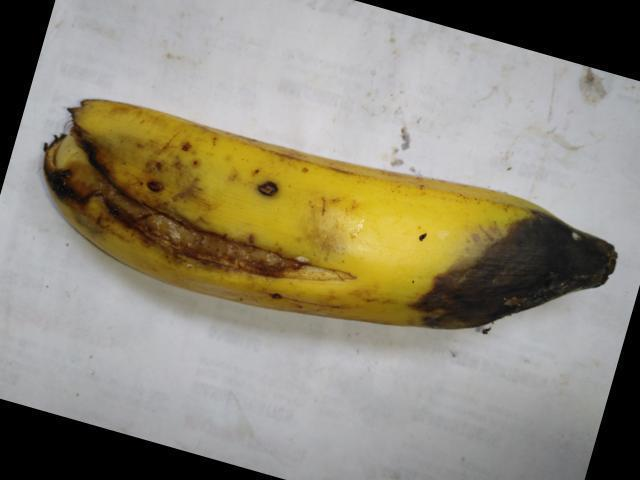rotten: (45, 92, 348, 302), (392, 158, 631, 365)
